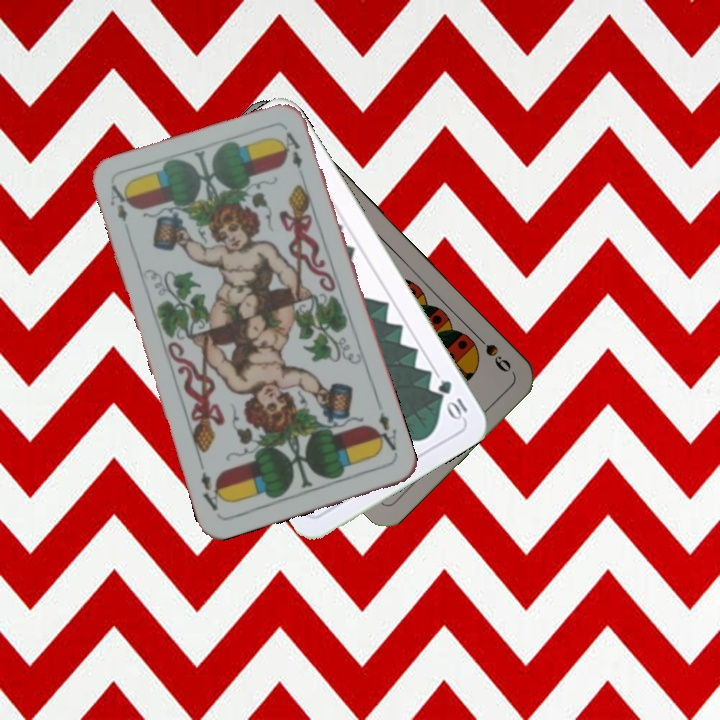EA: (370, 408, 400, 455), (106, 180, 135, 225)
G10: (433, 376, 470, 423)
S9: (469, 328, 515, 375)
